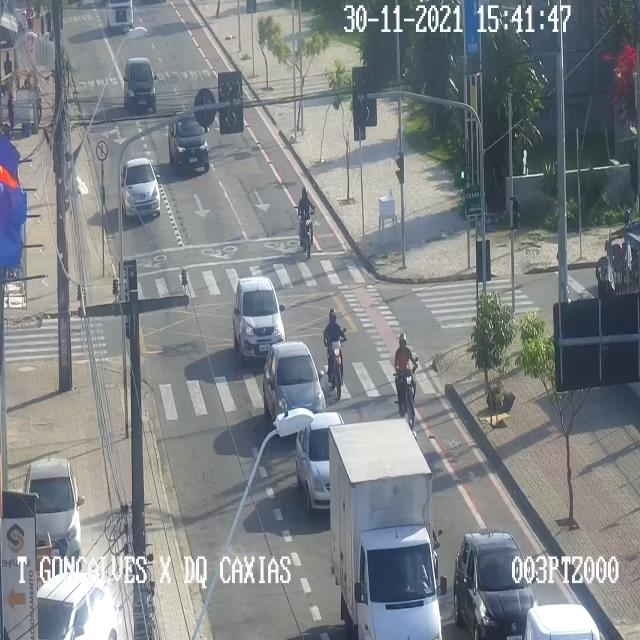Car: (454, 528, 536, 639), (26, 455, 86, 558), (263, 343, 327, 431), (36, 573, 118, 639), (296, 412, 346, 508), (232, 278, 284, 363), (120, 158, 160, 222), (168, 115, 210, 174), (124, 57, 158, 110), (107, 0, 135, 33)
Motorcycle: (596, 209, 638, 283), (392, 332, 418, 426), (324, 307, 346, 401), (294, 187, 316, 257)
Truck: (329, 418, 446, 636)
